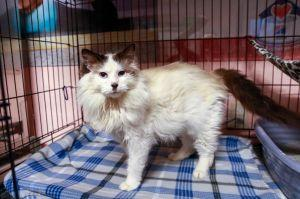ragdoll: (82, 40, 143, 106)
